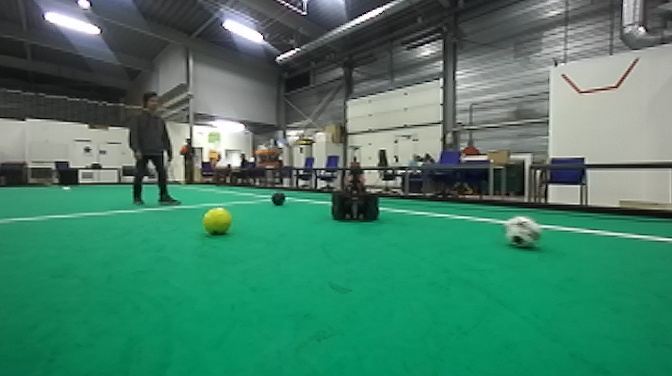ball: (498, 210, 544, 250), (201, 203, 233, 236), (269, 189, 290, 209)
human: (126, 91, 178, 208)
robot: (325, 141, 382, 223)
